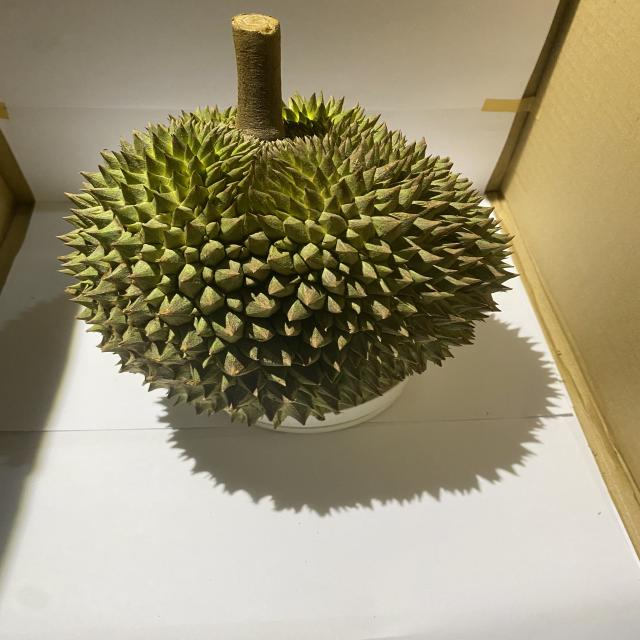immature: (52, 90, 523, 410)
